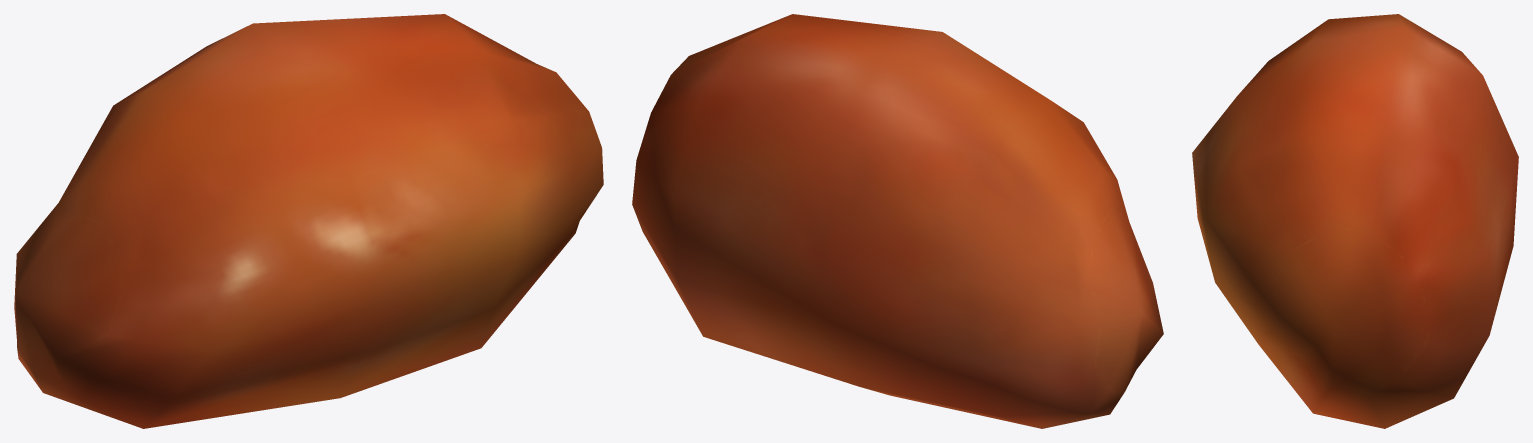
File: peanut.fbx
3 renders of one model, left to right at view 1: azimuth 30°, elevation 25°; view 2: azimuth 150°, elevation 25°; view 3: azimuth 270°, elevation 25°, orthographic. The views are drawn at different scales.
Parts seen in each view (by area): view 1: peanut_single; view 2: peanut_single; view 3: peanut_single.
Part boxes in pixels (x1,y1,x2,y2): peanut_single: [14, 14, 603, 428]; peanut_single: [632, 14, 1163, 428]; peanut_single: [1192, 14, 1518, 428].
Size of the model in its own units: 14.17 by 9.02 by 8.09.
